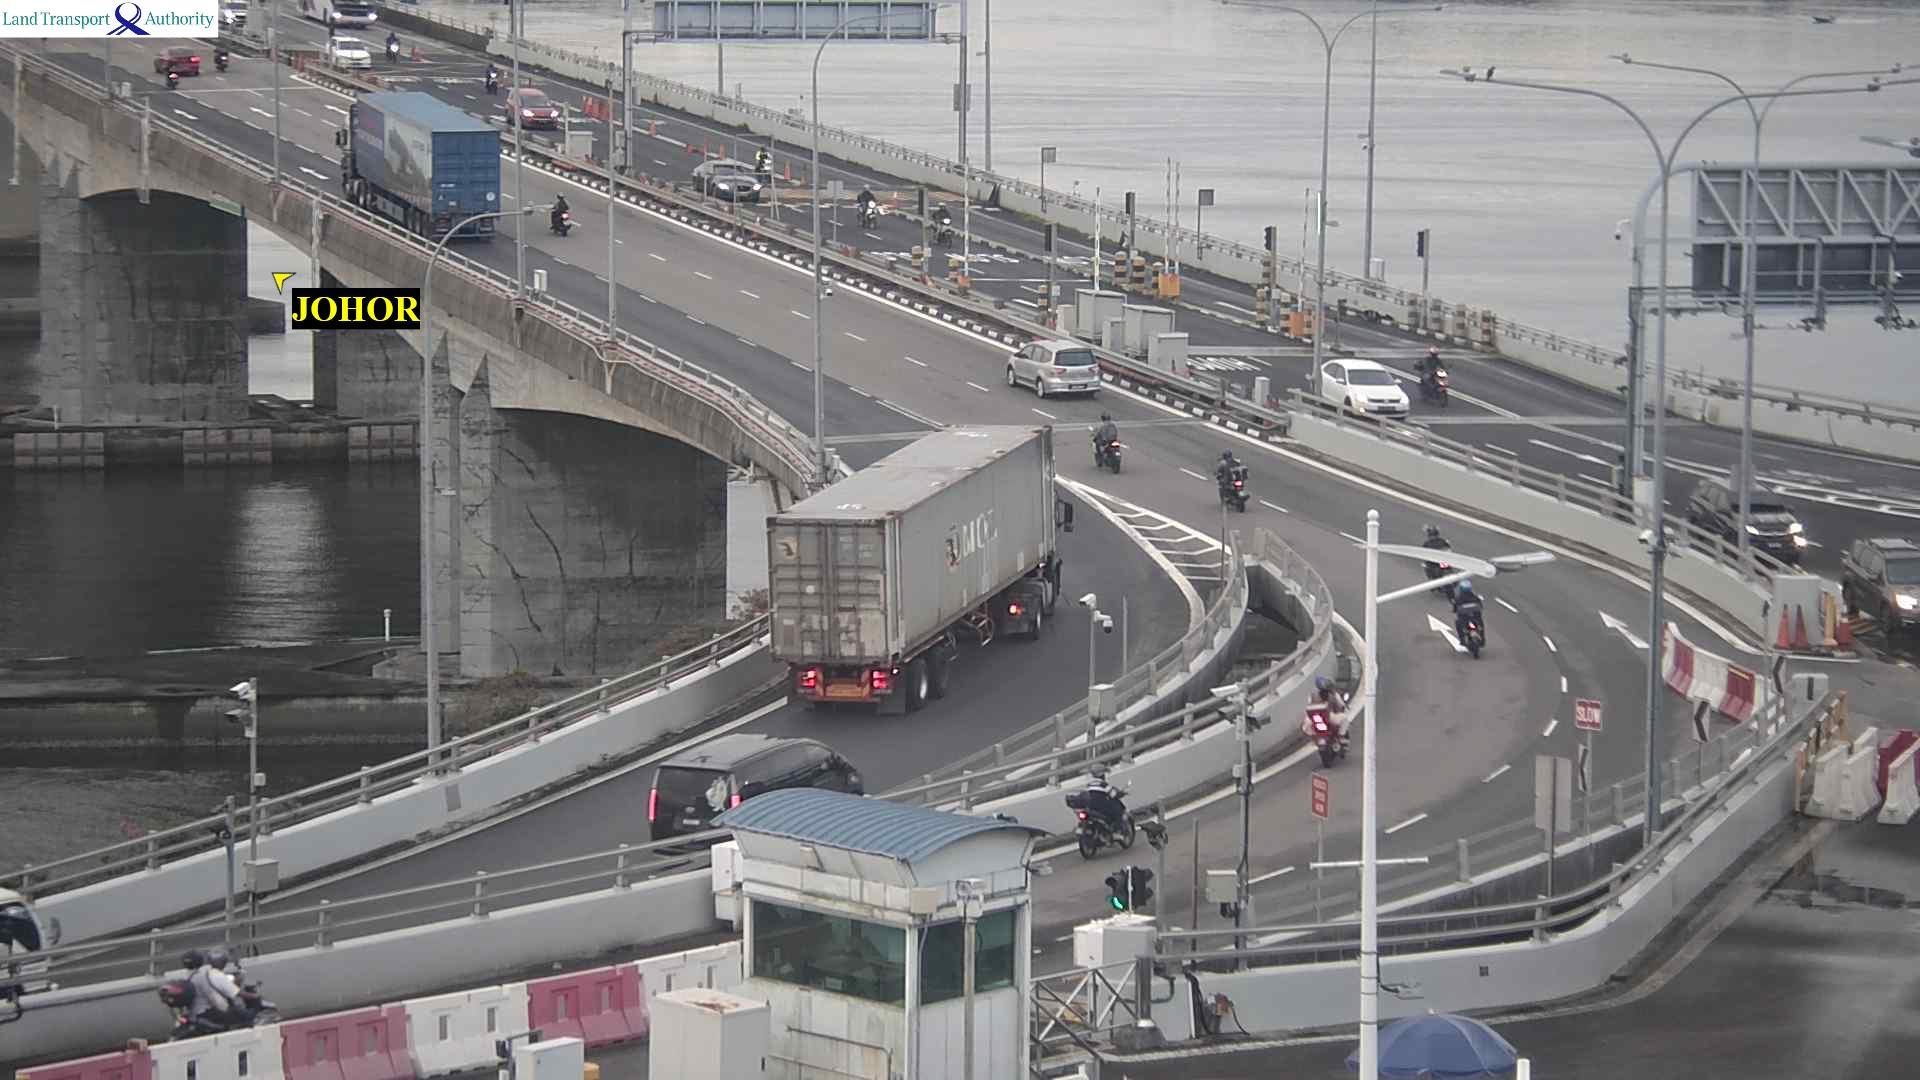vehicle-secondlink-johor: (774, 418, 1054, 715), (643, 737, 862, 841), (342, 89, 497, 234), (167, 965, 280, 1041), (1010, 342, 1104, 398), (1877, 728, 1920, 831), (1, 904, 38, 1018), (1072, 783, 1128, 855), (1440, 579, 1487, 653), (1215, 451, 1252, 511), (1311, 705, 1347, 762), (160, 49, 230, 77), (1090, 421, 1124, 475), (0, 967, 31, 1025), (1417, 525, 1450, 572), (551, 191, 573, 235)
vehicle-secondlink-singapore: (1847, 540, 1920, 631), (1311, 357, 1419, 416), (1849, 537, 1920, 585), (493, 93, 566, 129), (696, 165, 768, 200), (300, 0, 377, 28), (321, 38, 380, 69), (1805, 5, 1866, 29)
